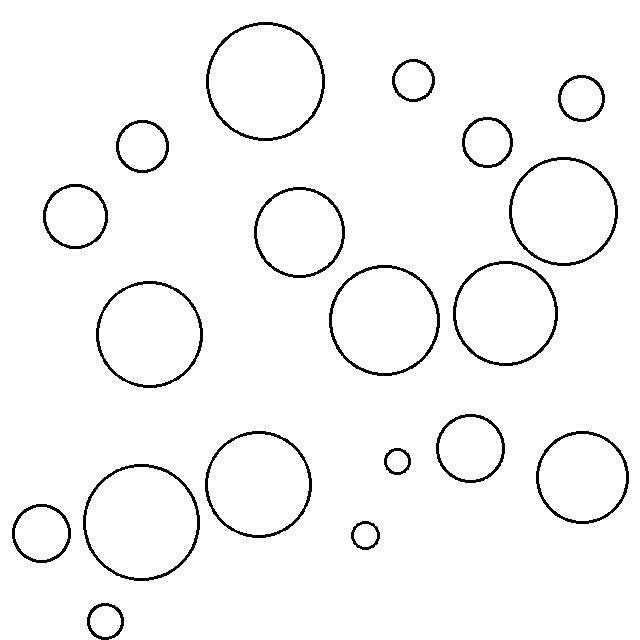circle: (204, 20, 326, 145), (82, 461, 202, 583), (327, 261, 442, 380), (201, 427, 314, 541), (506, 154, 621, 266), (94, 277, 206, 390), (450, 259, 561, 369), (532, 427, 632, 526), (251, 185, 348, 281), (434, 411, 508, 486), (41, 181, 111, 252), (10, 501, 74, 564), (114, 117, 171, 175), (460, 114, 515, 171), (556, 72, 606, 125), (391, 55, 439, 103), (83, 601, 127, 640), (348, 518, 383, 554), (383, 445, 414, 478)
